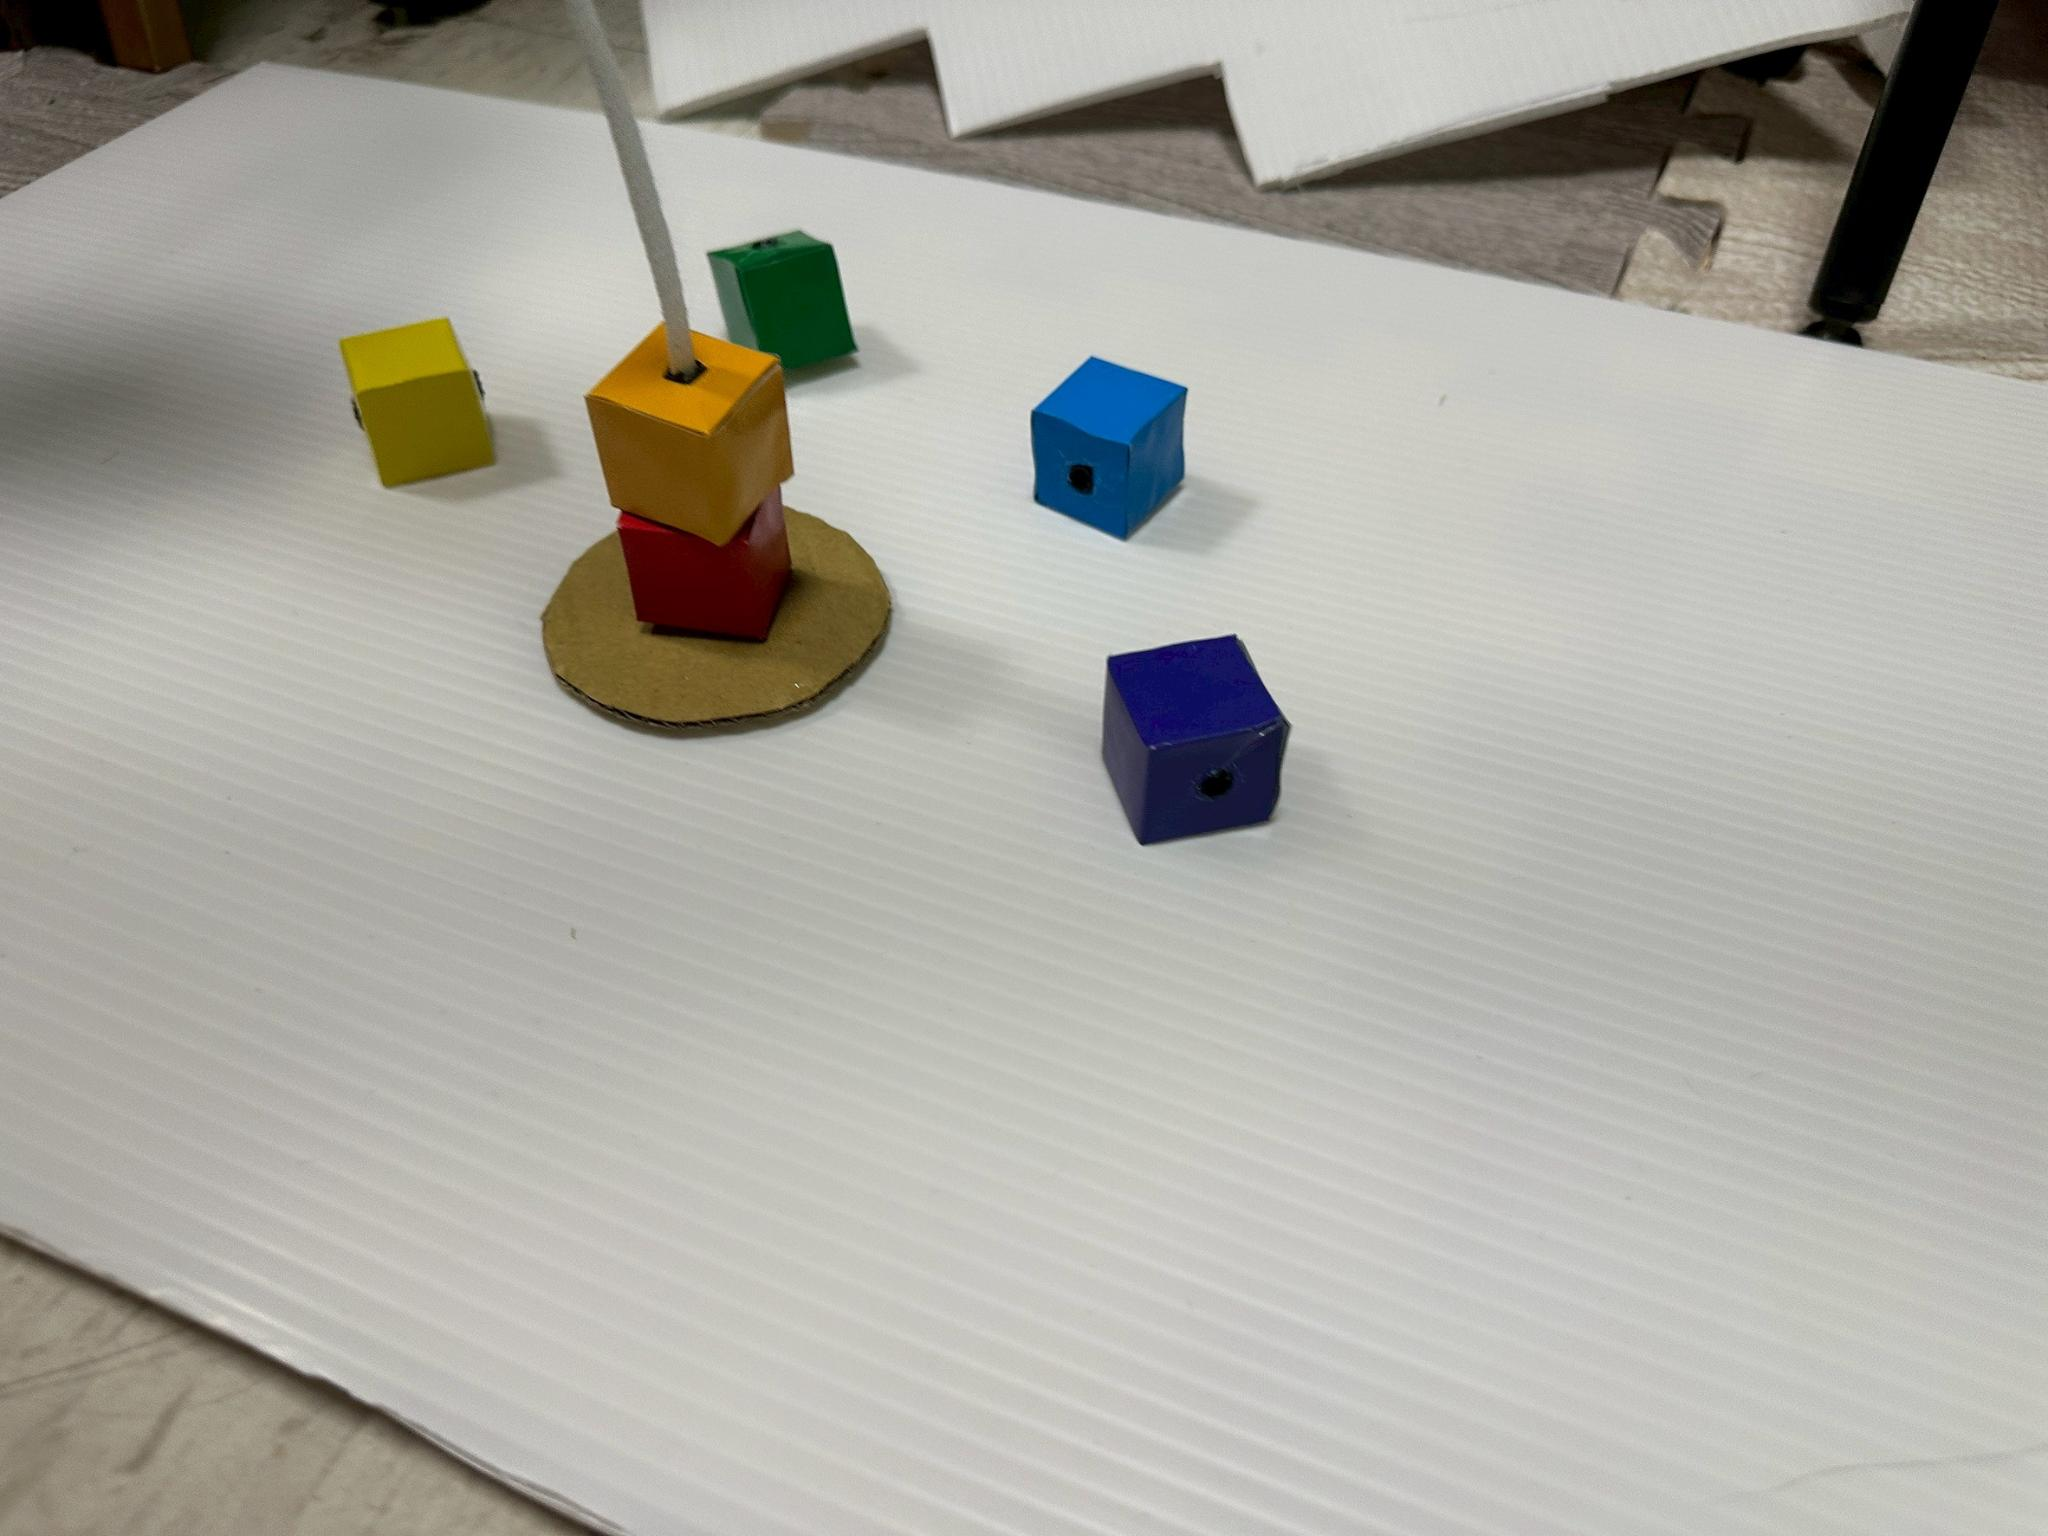base: (542, 511, 890, 726)
cube: (587, 324, 793, 544), (1103, 637, 1287, 845), (1032, 357, 1185, 539), (618, 487, 790, 641), (340, 318, 493, 486), (710, 231, 855, 373)
